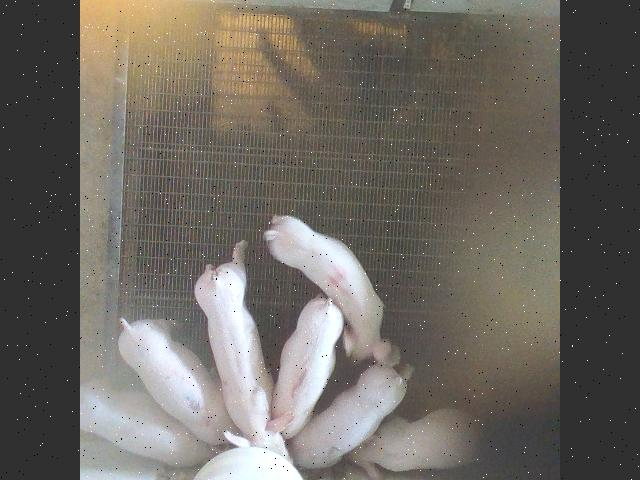pig-1: (272, 295, 344, 438)
pig-4: (264, 215, 391, 361)
